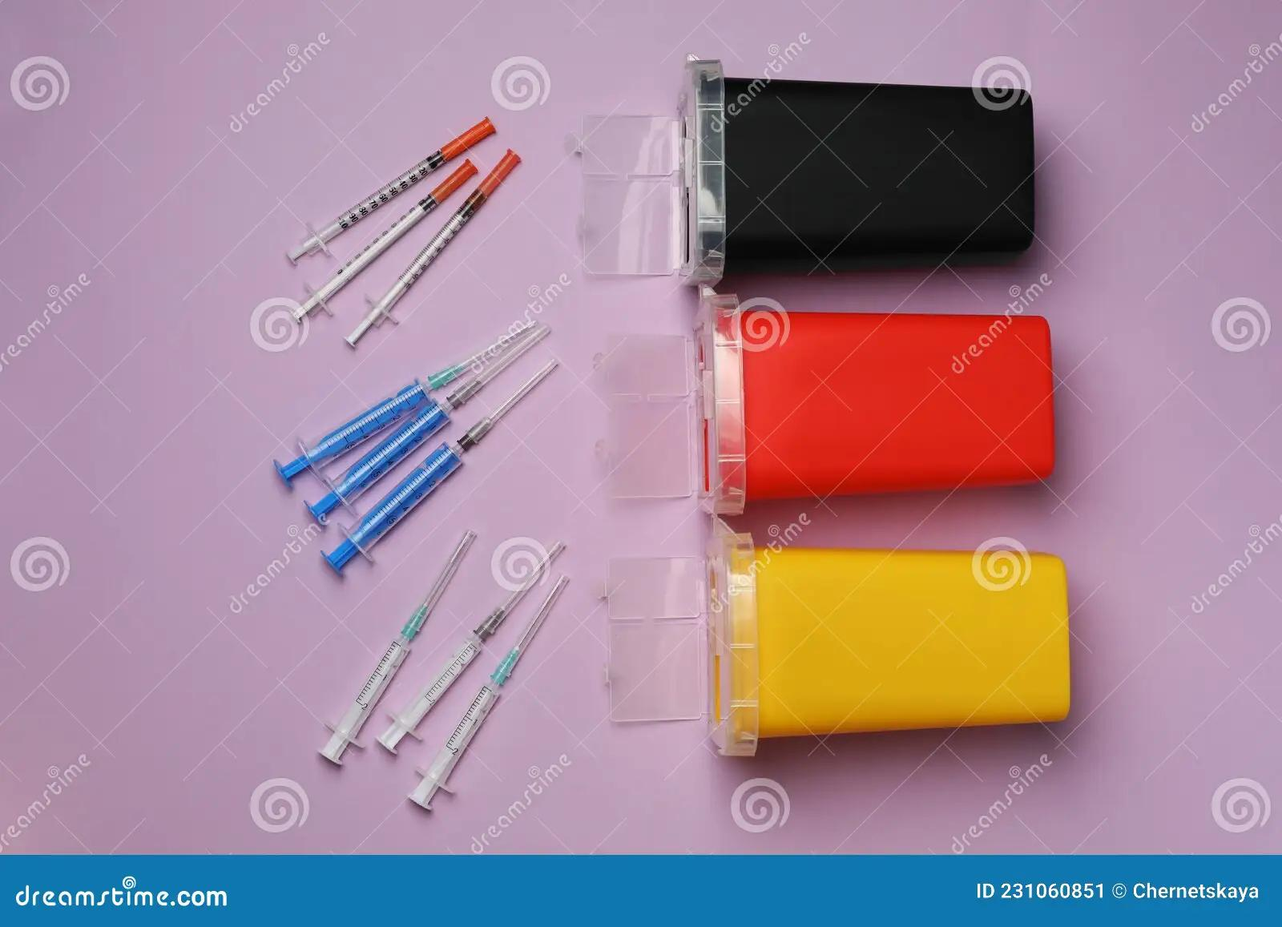Syringe: (324, 361, 557, 573), (305, 323, 549, 523), (273, 322, 534, 485), (378, 542, 564, 752), (408, 576, 567, 809), (320, 531, 475, 764), (346, 149, 520, 346), (292, 159, 477, 321), (287, 118, 494, 261)
